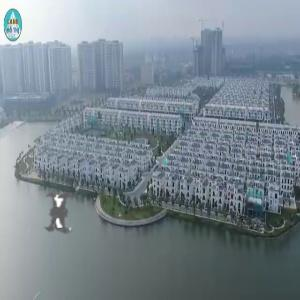drone: (4, 161, 114, 271)
